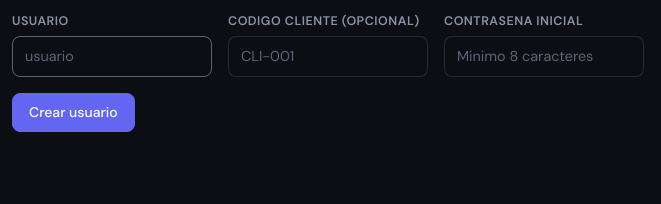
Test case: UserCrudForm › muestra error de validacion API por campo
Type "usuario_test" into the field labelled "Usuario".
click(112, 57); type("usuario_test")  # box 12,36 -> 212,78
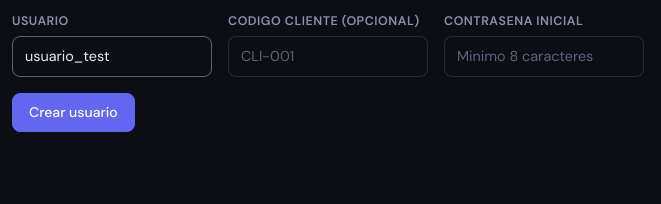
Type "Password123" into the password field labelled "Contrasena inicial".
click(544, 57); type("Password123")  # box 444,36 -> 644,78
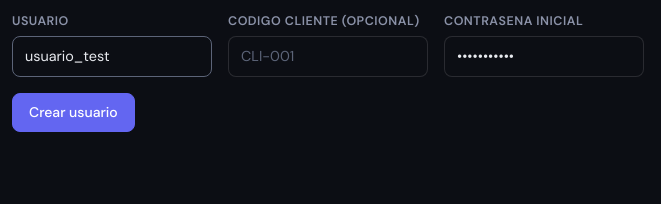
Submit the form "Crear usuario", box 12,13 -> 644,132
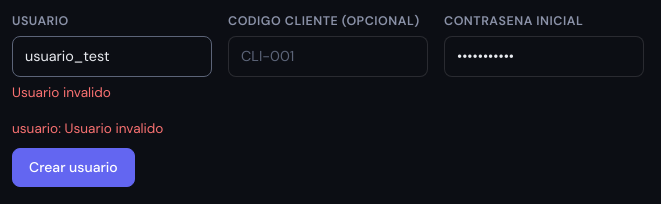
Check: the text "Usuario invalido" is shown, box 12,84 -> 111,101
